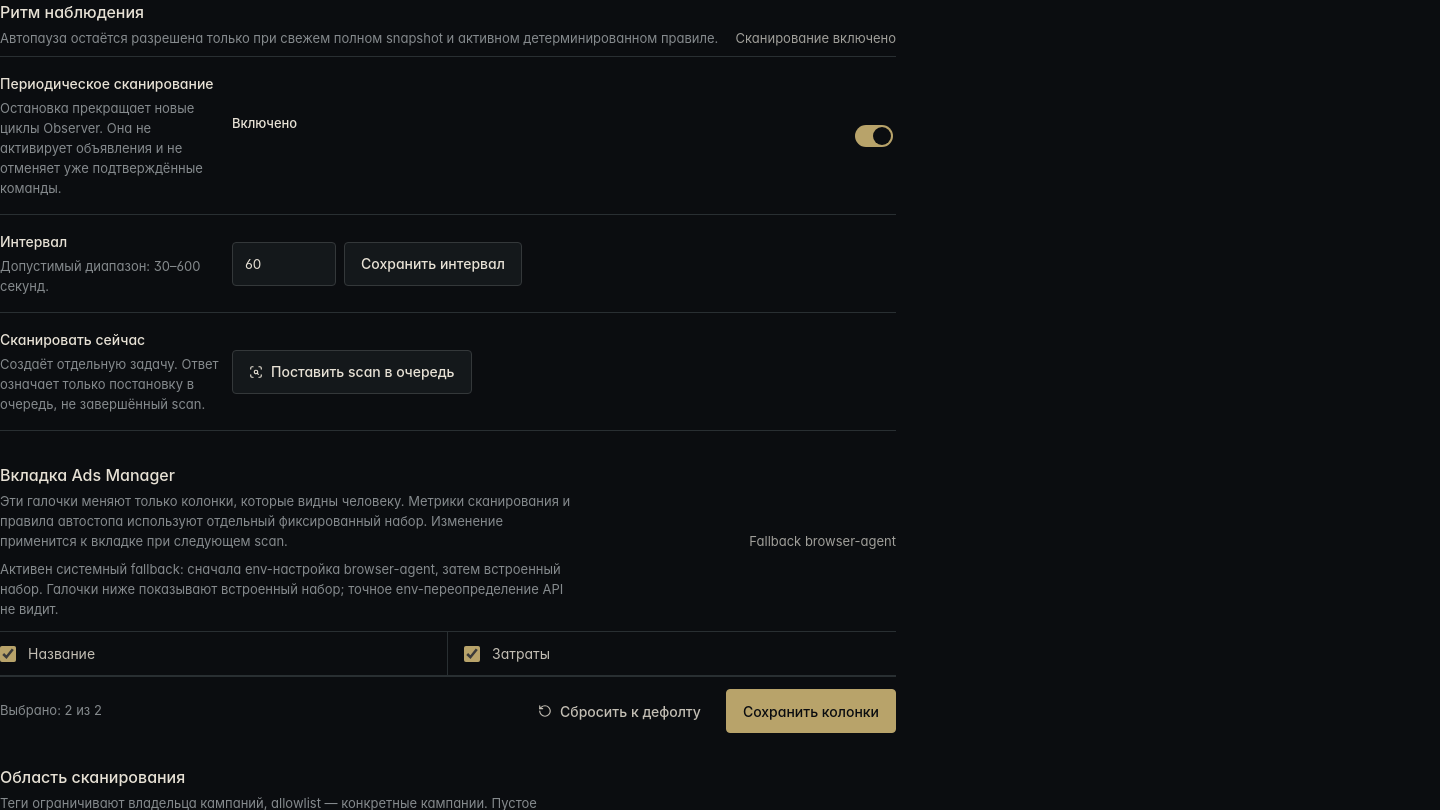
Test: ObserverTab › отмена в диалоге оставляет сканирование включённым
Click the switch named "Остановить периодическое сканирование" at (874, 136), box 852,114 -> 896,158
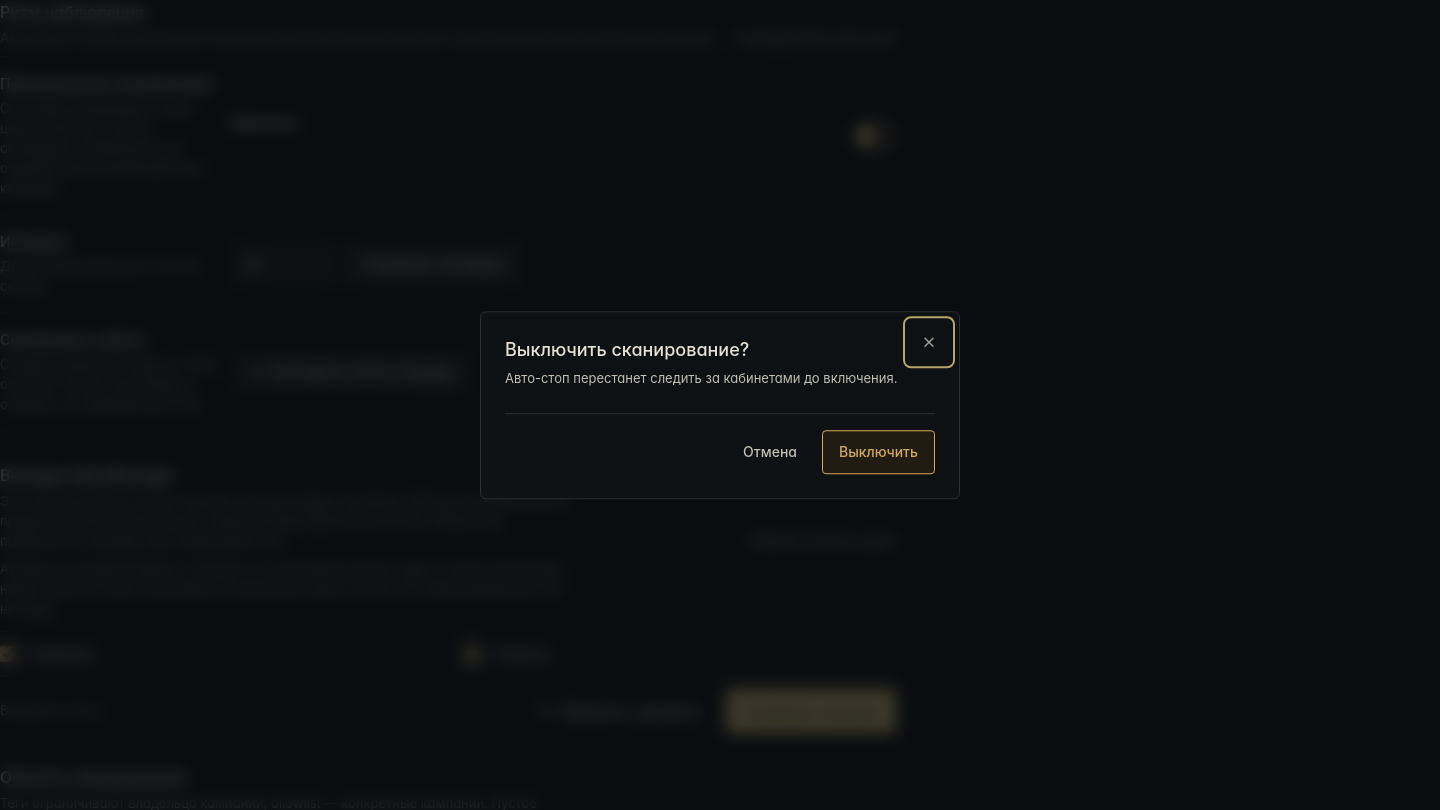
Click the button "Отмена" at (770, 452), box 726,430 -> 814,474
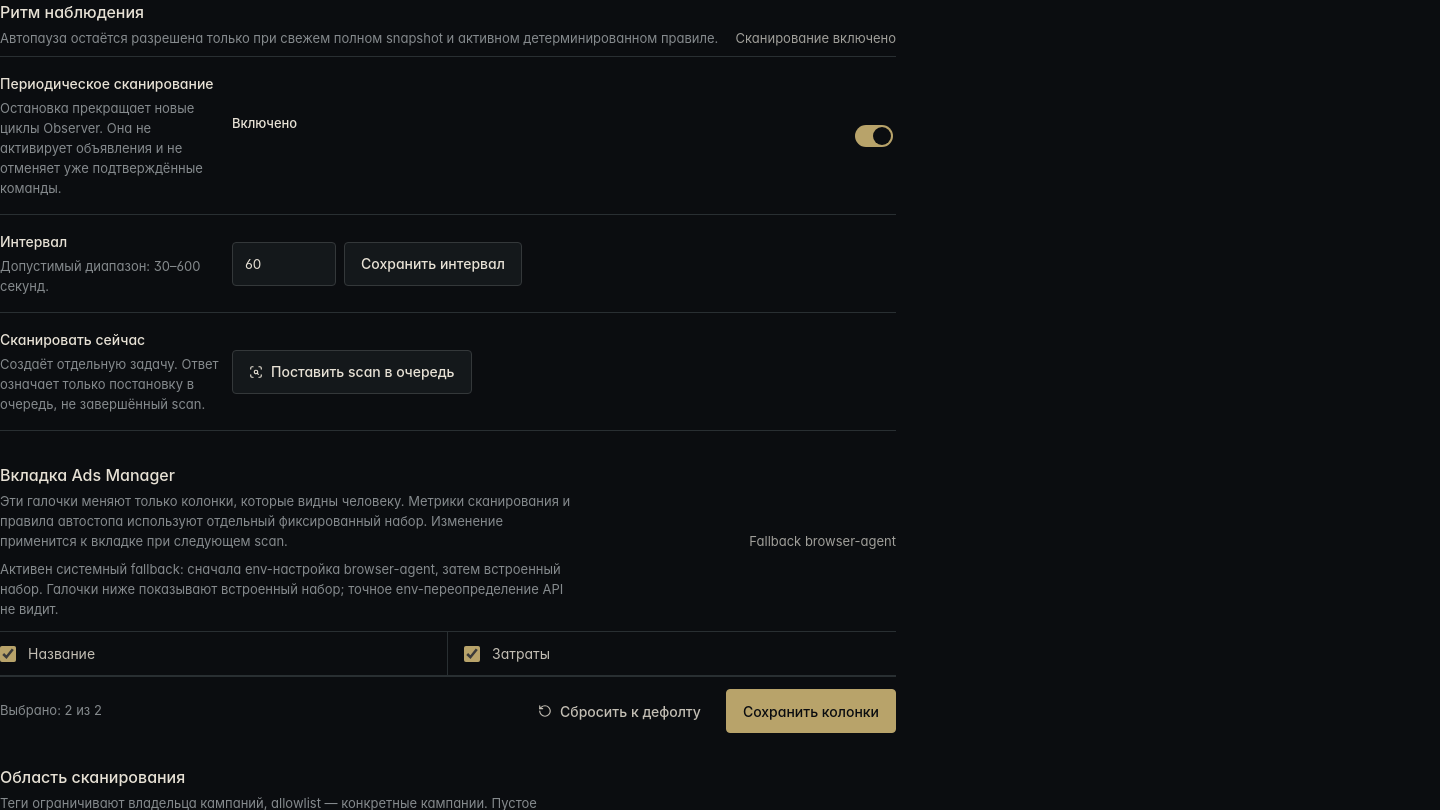
Check: the heading "Выключить сканирование?" is gone
